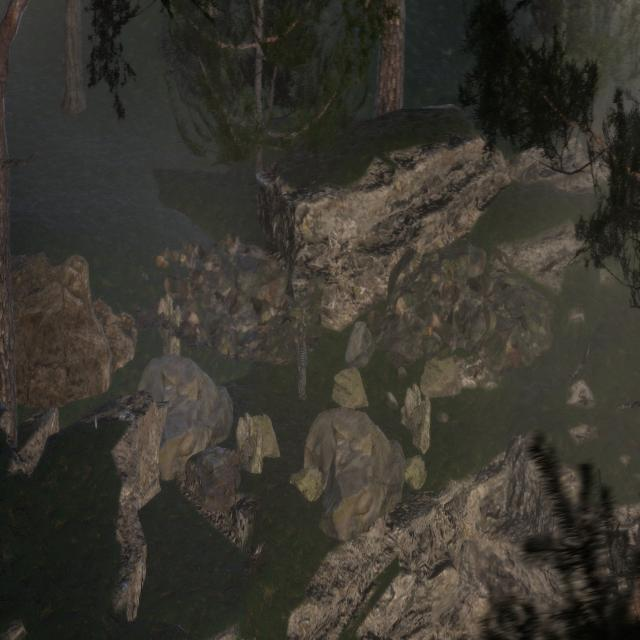Human: (290, 304, 315, 421)
